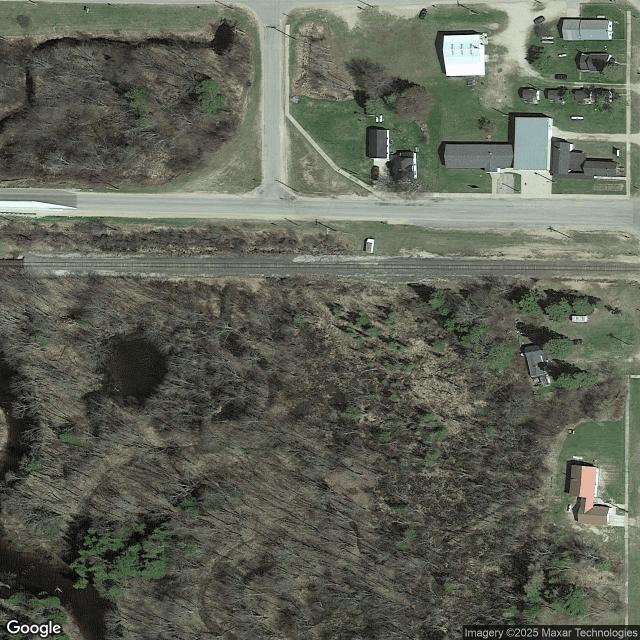Propane: (541, 36, 555, 40), (571, 116, 584, 120), (541, 40, 554, 44), (558, 53, 567, 57), (379, 115, 383, 123), (375, 115, 379, 123), (567, 505, 571, 512)
